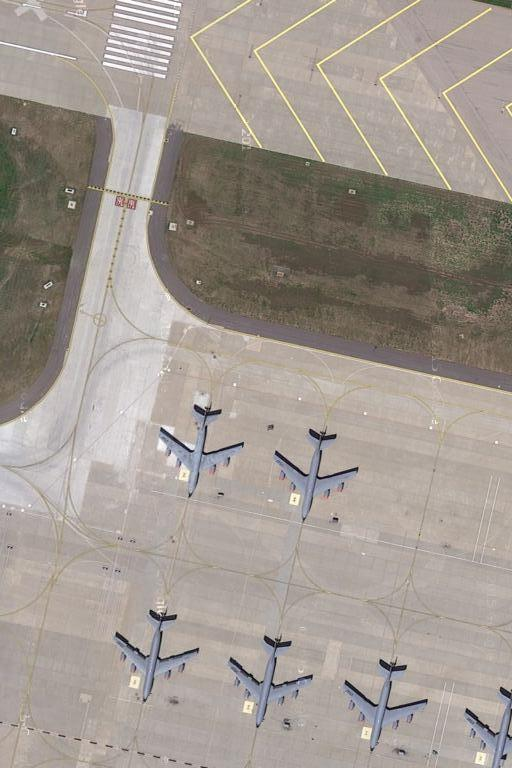KC-135: (153, 397, 247, 498), (338, 655, 432, 754), (269, 425, 363, 524), (111, 605, 202, 703), (231, 631, 318, 729), (457, 677, 510, 768)
